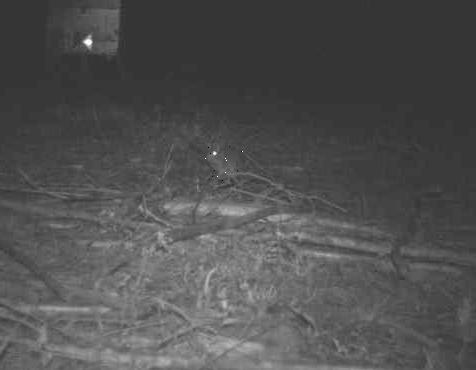Rabbit: (206, 144, 244, 183)
